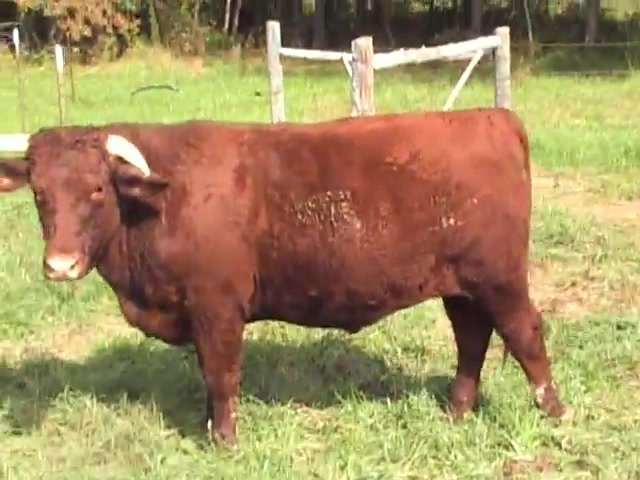cow: (1, 108, 565, 451)
